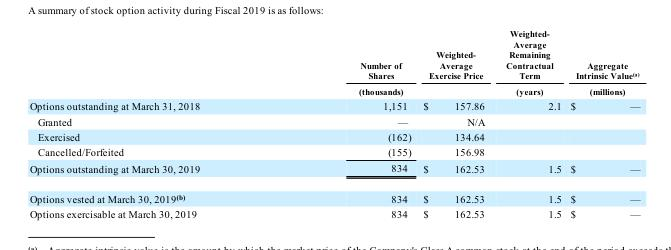table: (28, 28, 639, 219)
table column: (28, 28, 278, 219), (278, 28, 416, 219), (416, 28, 494, 219), (565, 28, 639, 219), (494, 28, 565, 219)
table column header: (28, 28, 639, 98)
table row: (28, 28, 639, 98), (28, 159, 639, 183), (28, 183, 639, 205), (28, 143, 639, 159), (28, 98, 639, 113), (28, 113, 639, 128), (28, 128, 639, 143), (28, 205, 639, 219)
